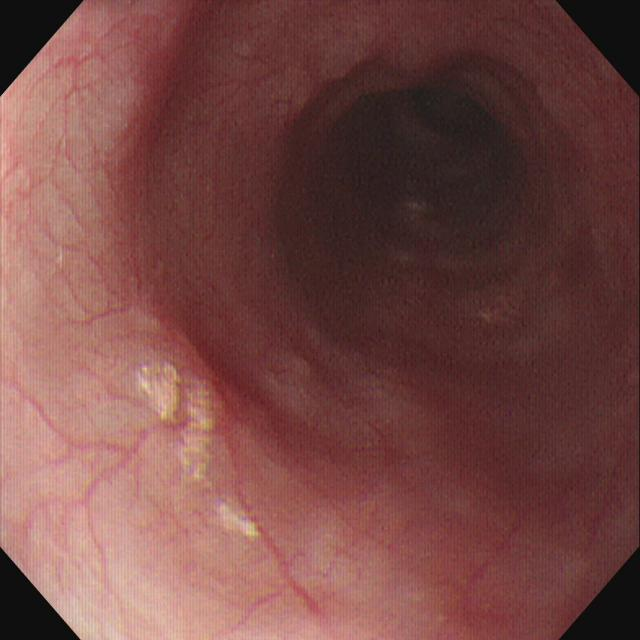E: (398, 82, 491, 169)
J: (143, 364, 216, 480), (215, 501, 261, 543)
